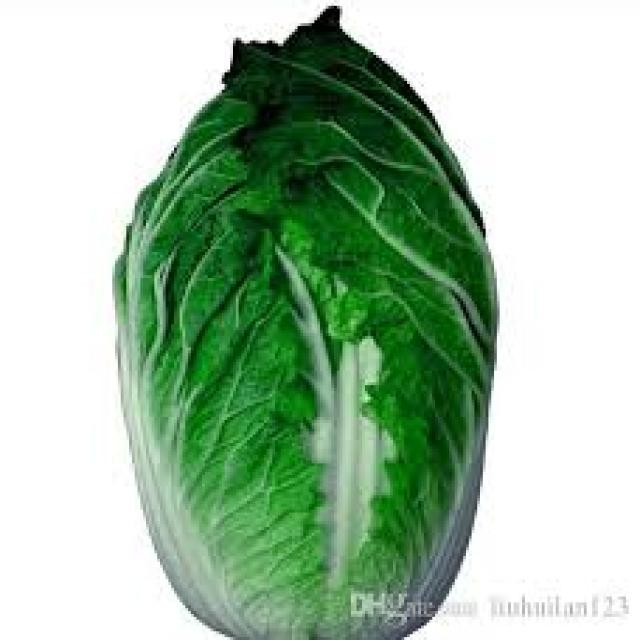organic waste: (109, 3, 497, 637)
